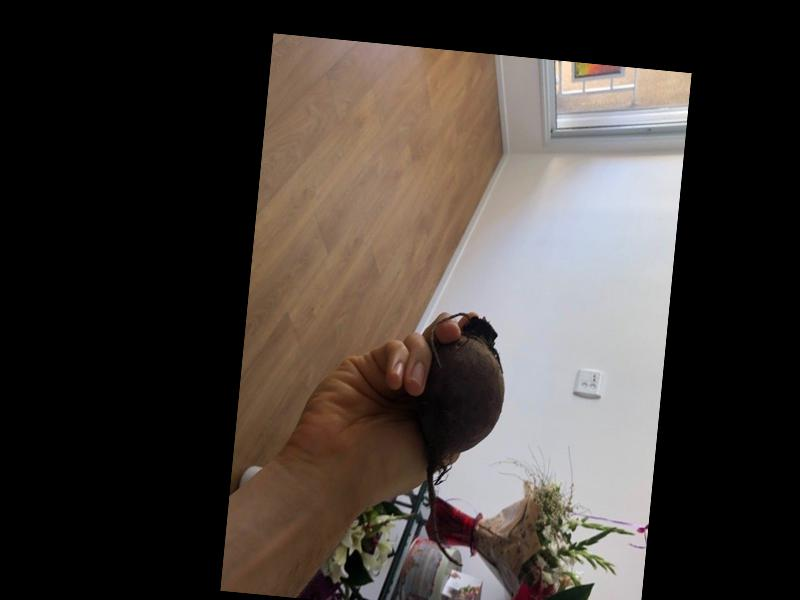Beet: (400, 309, 511, 568)
